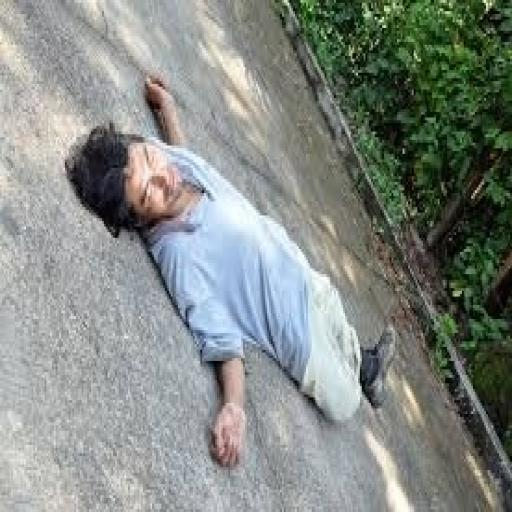sleeping: (63, 70, 399, 470)
